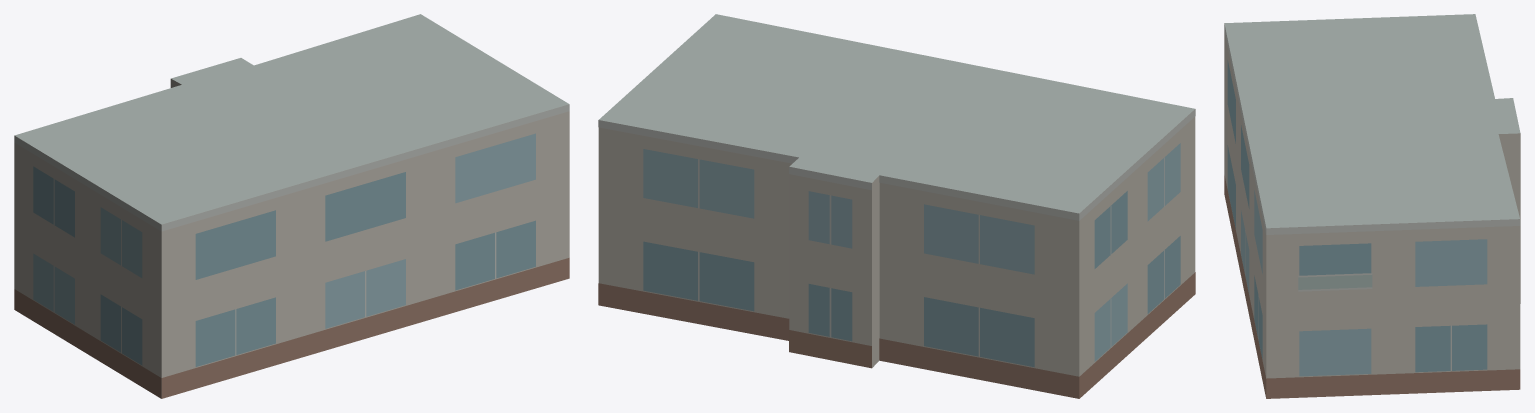
The model's file is survey-upis-32613083.glb.
The picture shows the model from 3 angles, left to right: view 1: azimuth 30°, elevation 25°; view 2: azimuth 150°, elevation 25°; view 3: azimuth 270°, elevation 25°; orthographic projection. The views are drawn at different scales.
Parts seen in each view (by area): view 1: survey-upis-32613083.tmp; view 2: survey-upis-32613083.tmp; view 3: survey-upis-32613083.tmp.
Part boxes in pixels (<box>): survey-upis-32613083.tmp: <box>14,14,569,398</box>; survey-upis-32613083.tmp: <box>598,14,1195,398</box>; survey-upis-32613083.tmp: <box>1224,14,1520,398</box>.
Bounding box in the file's own units: 16.44 × 6.1 × 9.61.
